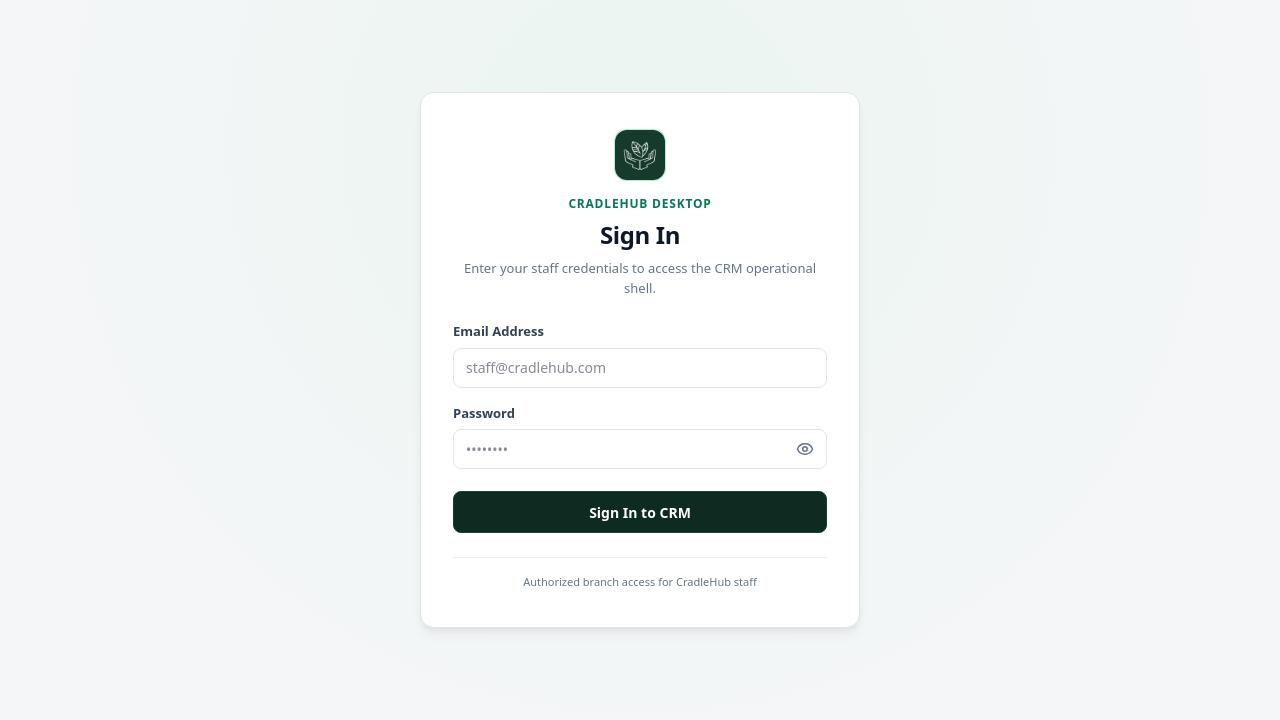
Test: Stage 01 UI Components › App integration flows › retains CanonicalShell and displays truthful retryable error if sign-out fails
Type "user@example.com" into the field with test id "email-input".
click(640, 368); type("user@example.com")  # box [453,348,827,388]
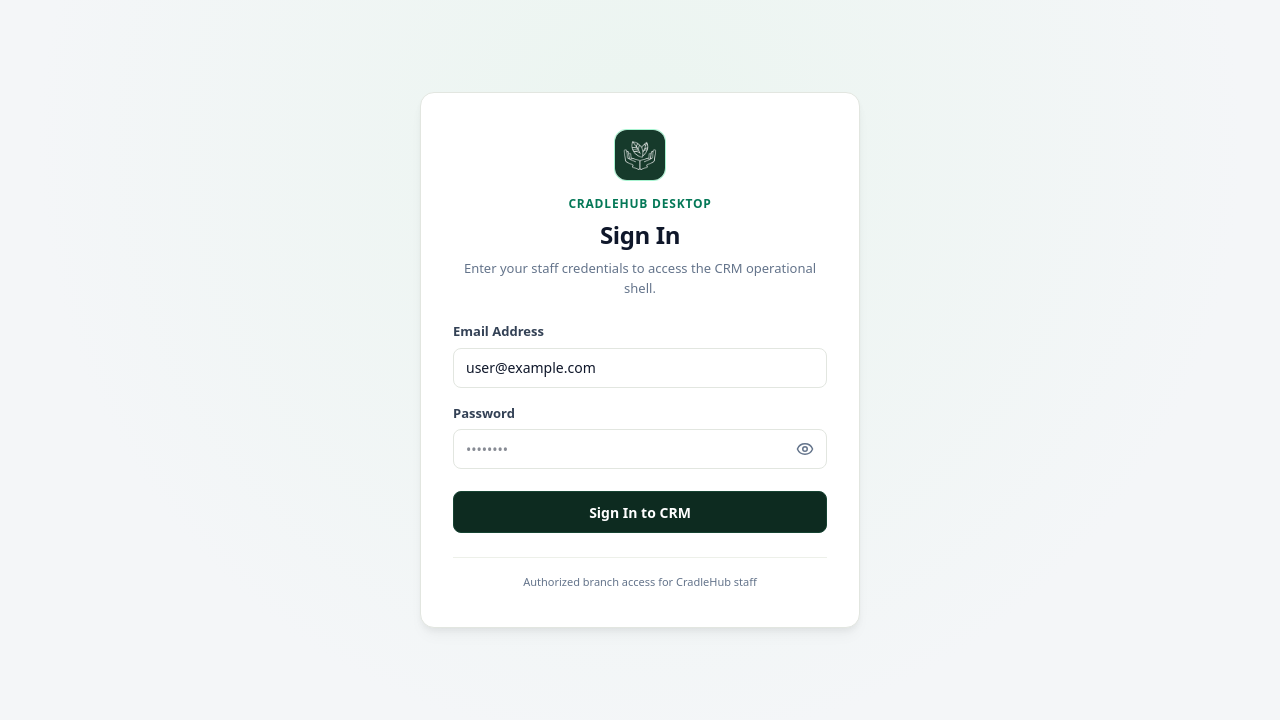
Type "password123" into the password field with test id "password-input".
click(640, 449); type("password123")  # box [453,429,827,469]
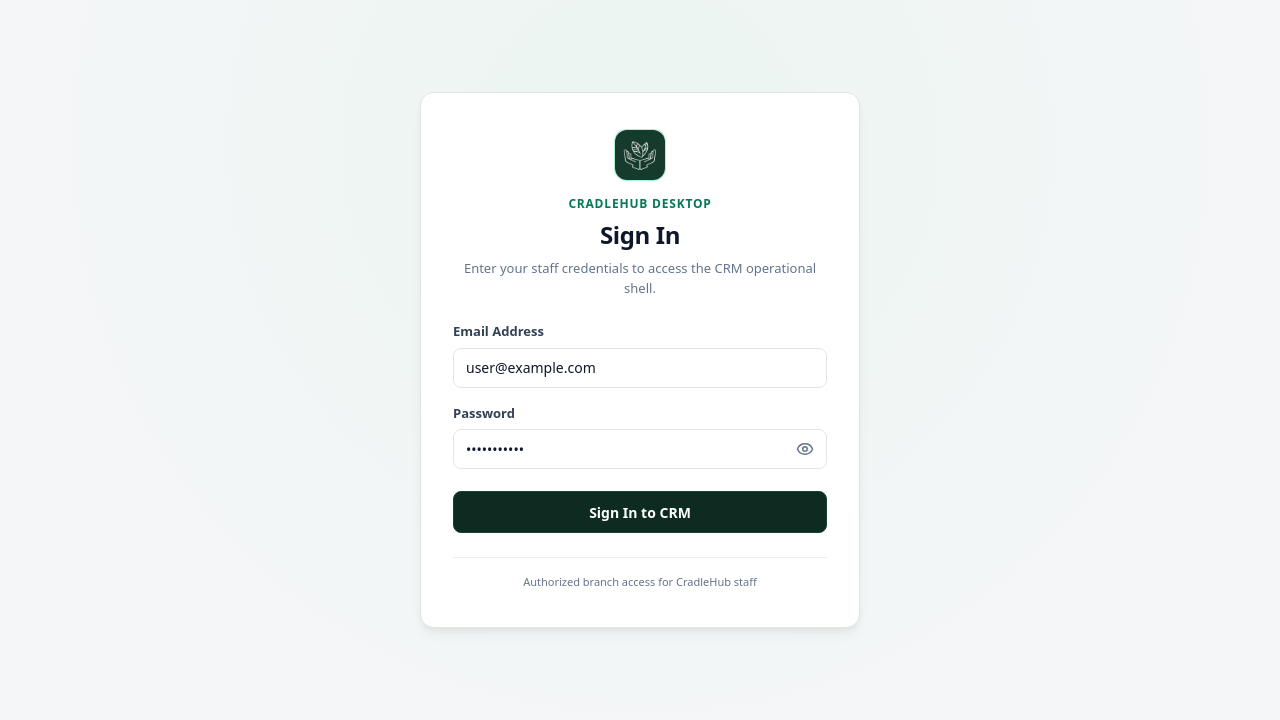
Click the button with test id "submit-button".
click(640, 512)  # box [453,491,827,533]
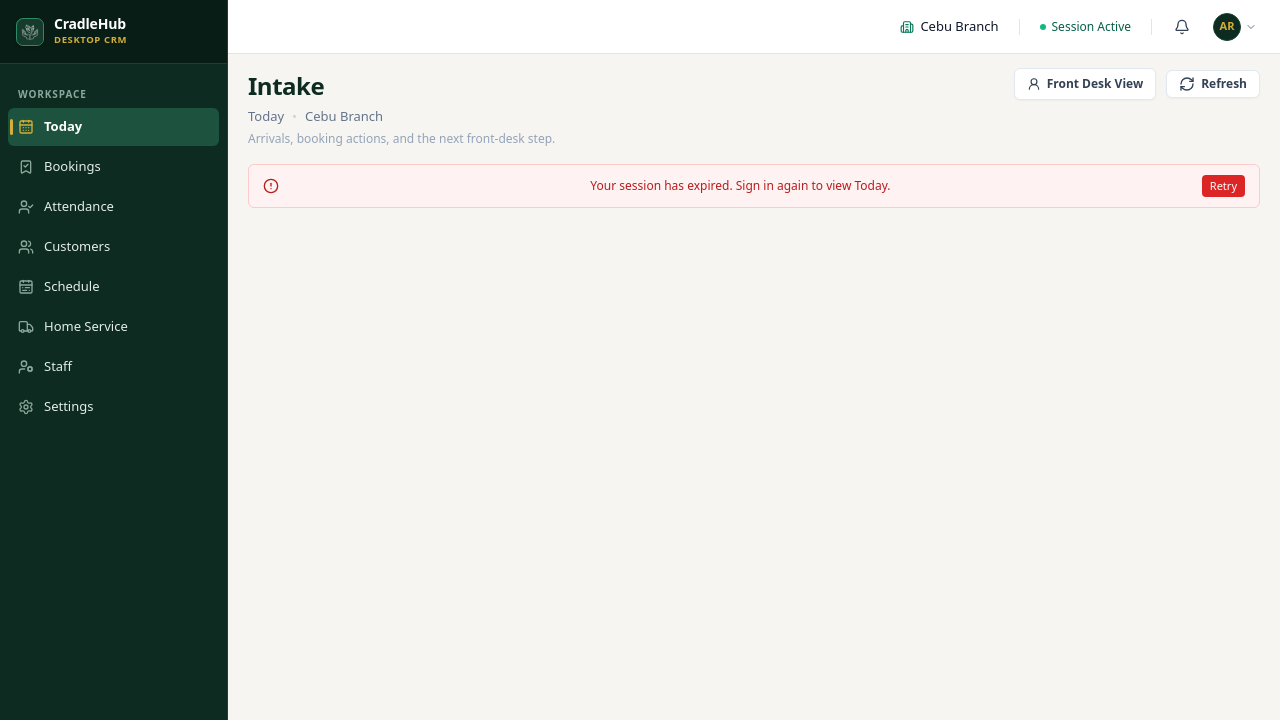
Now the element with test id "canonical-shell" is shown
// Open avatar menu and click Sign Out which will fail
Click the button with test id "user-menu-trigger".
click(1235, 26)  # box [1210,10,1260,44]
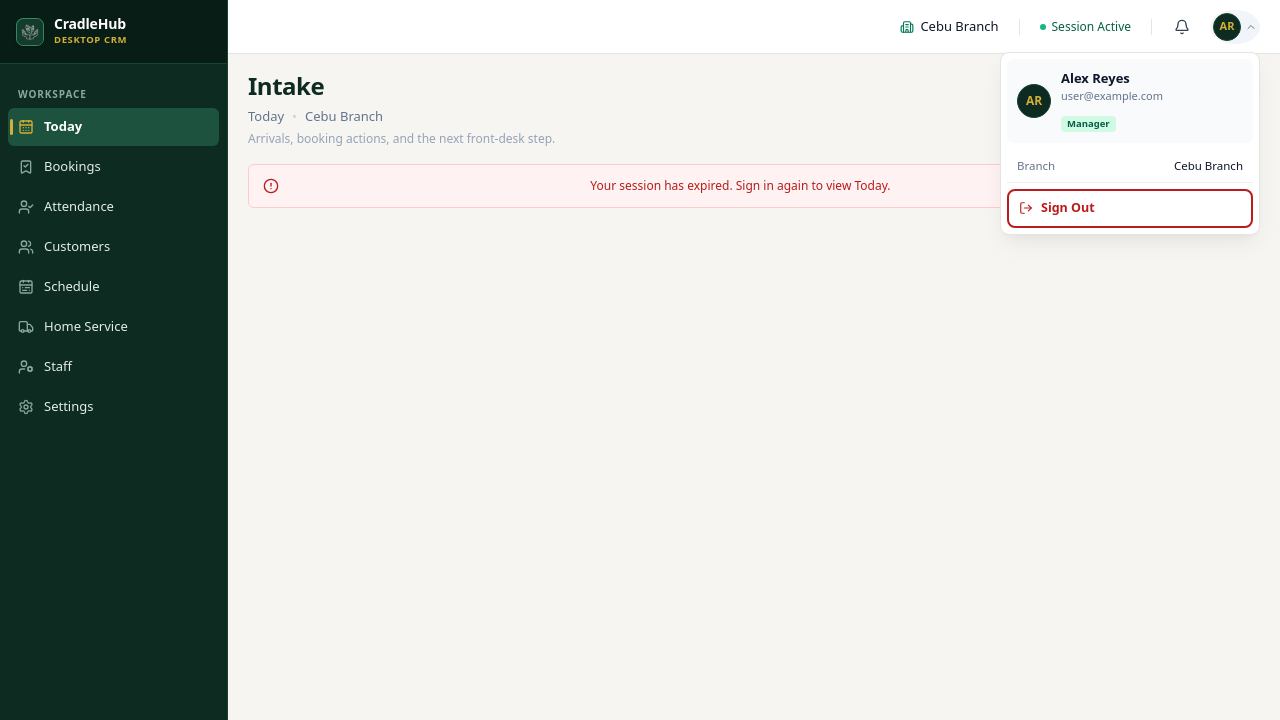
Now the menu item with test id "dropdown-signout-button" is shown
Click the menu item with test id "dropdown-signout-button".
click(1130, 208)  # box [1009,191,1251,226]
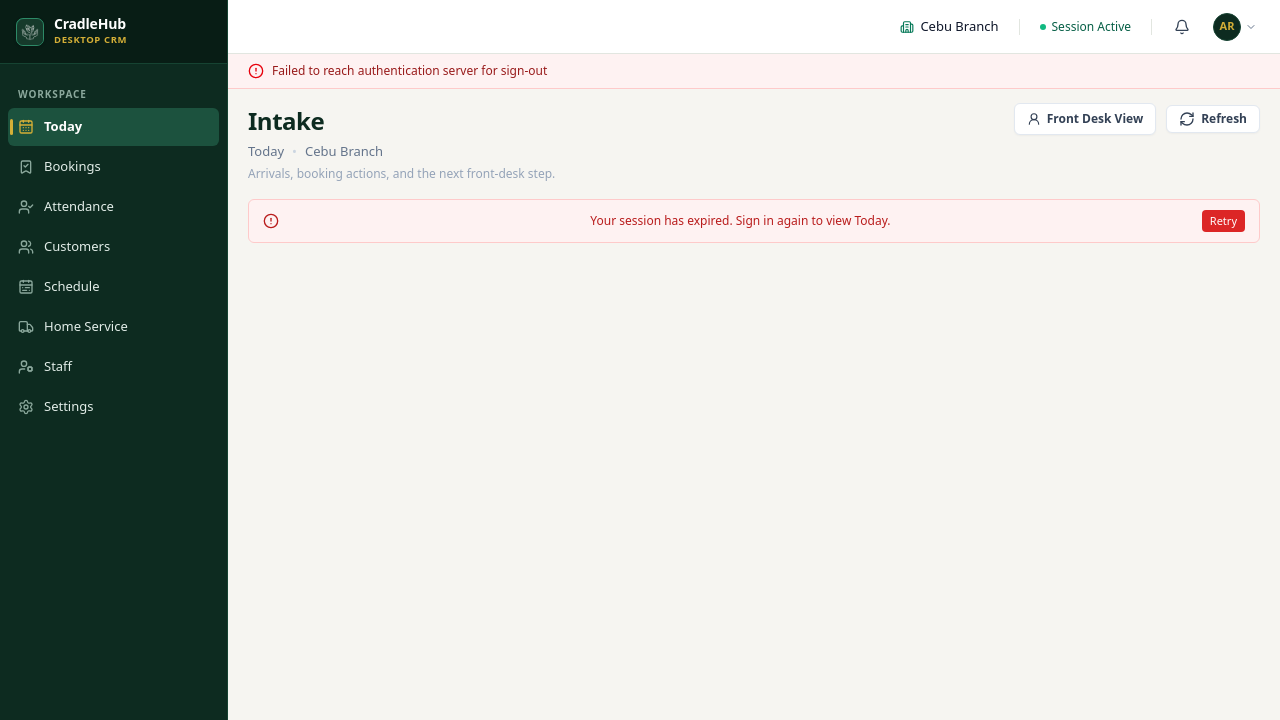
Now the element with test id "canonical-shell" is shown
Now the message "Failed to reach authentication server for sign-out" is shown, box [228,54,1279,89]
Now the message with test id "shell-signout-error" reads "Failed to reach authentication server for sign-out", box [272,62,547,79]
